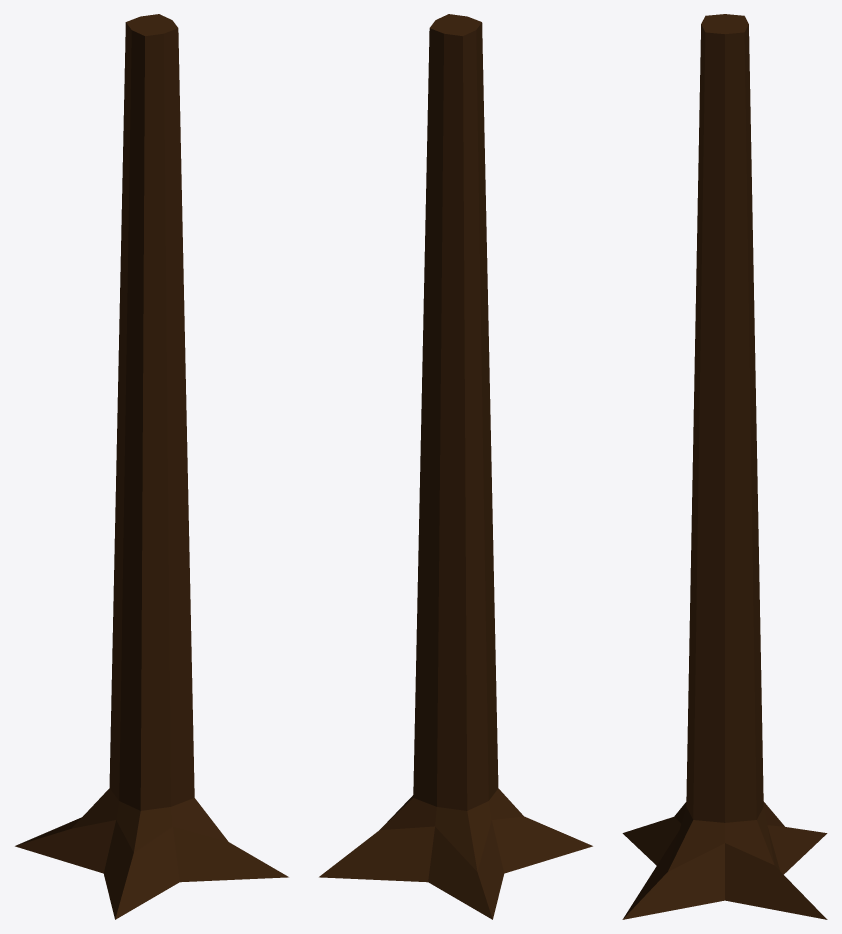
The model's file is Trunk_02.fbx.
The picture shows the model from 3 angles, left to right: view 1: azimuth 30°, elevation 25°; view 2: azimuth 150°, elevation 25°; view 3: azimuth 270°, elevation 25°; orthographic projection.
Parts seen in each view (by area): view 1: Trunk_02; view 2: Trunk_02; view 3: Trunk_02.
Part boxes in pixels (x1=…): Trunk_02: x1=15, y1=14, x2=288, y2=919; Trunk_02: x1=319, y1=14, x2=592, y2=919; Trunk_02: x1=622, y1=14, x2=827, y2=919.
Size of the model in its own units: 336 by 1537 by 336.
